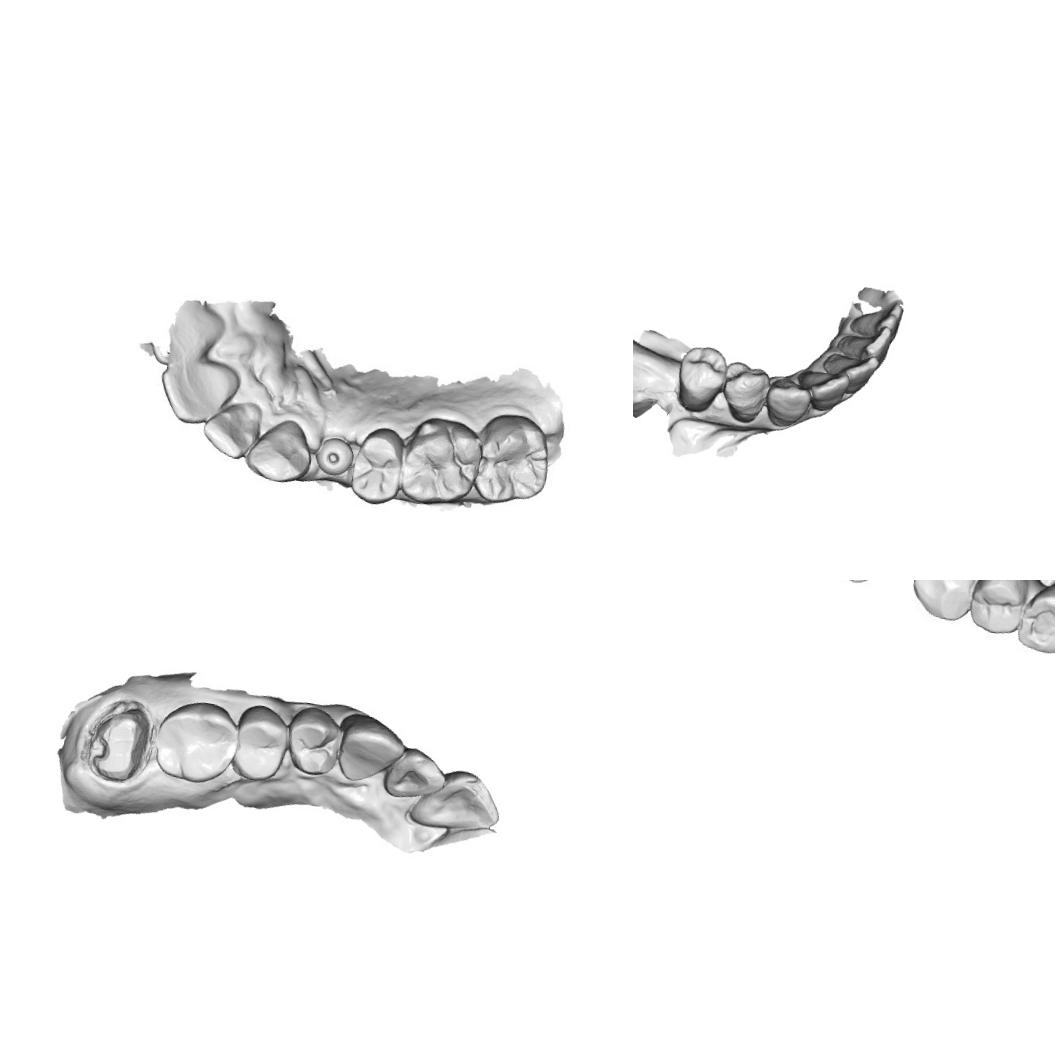canine: (332, 708, 412, 790), (242, 413, 315, 488), (906, 580, 988, 625), (760, 374, 815, 432)
crown: (81, 694, 157, 789)
implant: (313, 432, 356, 478)
incisor: (403, 759, 508, 840), (153, 352, 237, 430), (380, 742, 453, 807), (198, 398, 268, 464), (817, 350, 880, 398), (834, 318, 894, 367), (792, 366, 850, 414), (846, 294, 906, 340)
molar: (464, 405, 560, 512), (392, 410, 487, 510), (148, 693, 244, 789)
premolar: (228, 700, 294, 786), (345, 421, 407, 509), (280, 702, 346, 780), (964, 580, 1040, 642), (671, 340, 732, 417), (717, 357, 772, 426), (1013, 580, 1055, 658)
